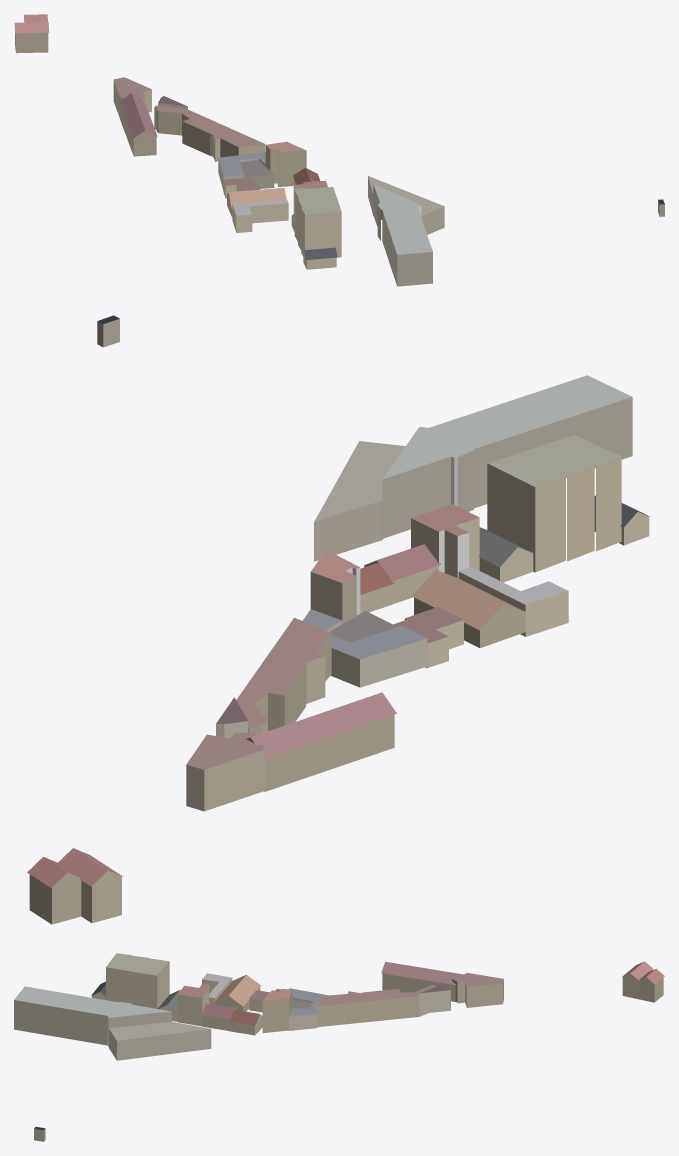
3 views of the same model, one above another, from view 1: azimuth 30°, elevation 25°; view 2: azimuth 150°, elevation 25°; view 3: azimuth 270°, elevation 25° (orthographic). The views are drawn at different scales.
Parts seen in each view (by area): view 1: tuile; view 2: tuile; view 3: tuile.
Boxes of the visible parts, <box> form: tuile: <box>14,14,664,286</box>; tuile: <box>27,315,650,924</box>; tuile: <box>14,953,664,1141</box>.
Bounding box in the file's own units: 142 × 19.09 × 248.
